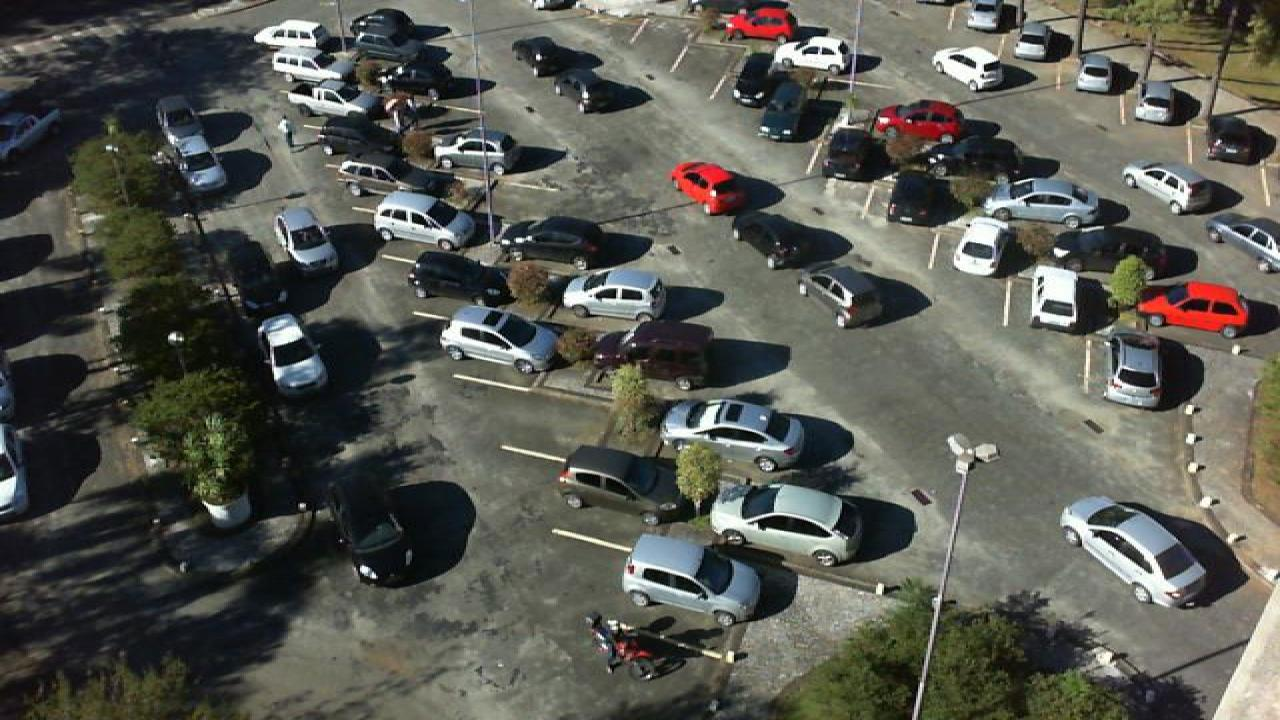Car: (1058, 494, 1208, 607), (620, 536, 762, 626), (708, 483, 854, 567), (318, 467, 416, 585), (658, 396, 810, 470), (554, 444, 688, 526), (592, 318, 716, 390), (436, 305, 560, 375), (1136, 280, 1248, 339), (372, 192, 480, 252), (256, 311, 328, 397), (406, 250, 508, 307), (796, 261, 882, 327), (498, 215, 596, 272), (560, 269, 666, 321), (980, 179, 1100, 224), (1120, 160, 1216, 215), (1102, 328, 1166, 410), (1052, 226, 1154, 276), (732, 209, 810, 268), (272, 206, 338, 274), (330, 156, 430, 200), (670, 160, 748, 215), (924, 136, 1020, 179), (430, 127, 520, 172), (1206, 214, 1280, 268), (870, 100, 964, 142), (282, 81, 380, 121), (1030, 262, 1082, 331), (932, 45, 1006, 92), (770, 35, 854, 76), (310, 116, 396, 156), (730, 49, 788, 107), (950, 215, 1004, 277), (154, 95, 210, 154), (758, 79, 810, 142), (884, 172, 944, 225), (822, 128, 880, 182), (170, 136, 226, 191), (554, 64, 616, 113), (270, 48, 354, 84), (252, 19, 336, 52), (720, 6, 796, 42), (348, 41, 440, 70), (512, 35, 576, 76), (380, 66, 472, 94), (1208, 79, 1260, 126), (352, 7, 412, 46), (1014, 19, 1060, 62), (1132, 78, 1174, 124), (1074, 54, 1114, 96), (960, 0, 1010, 32)
